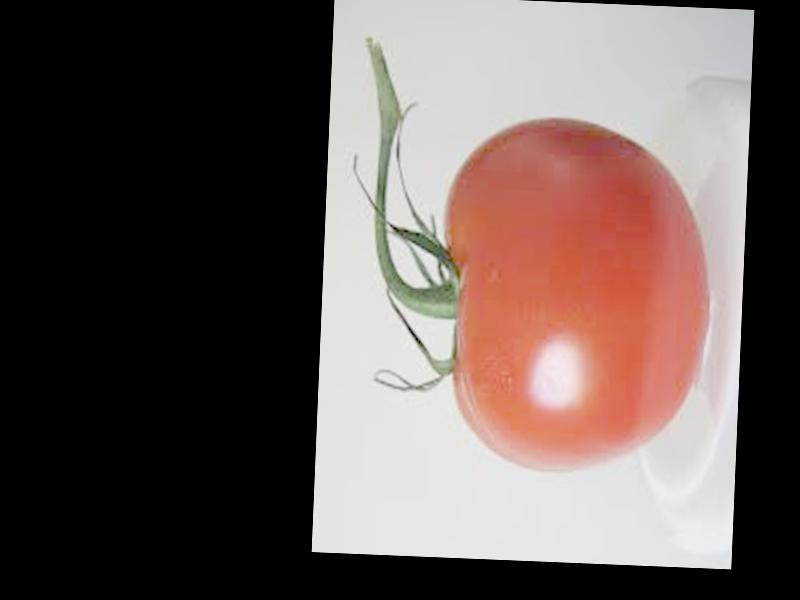Tomato: (434, 112, 715, 477)
